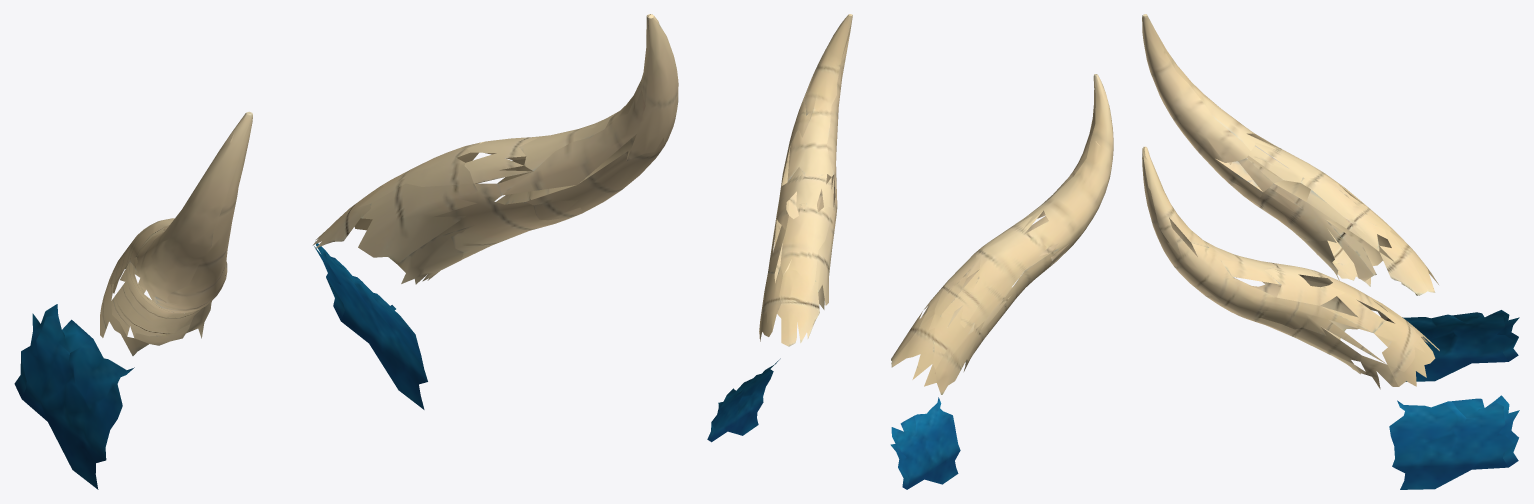
The model's file is dragon_hybrid_head.glb.
3 views of the same model, side by side, from view 1: azimuth 30°, elevation 25°; view 2: azimuth 150°, elevation 25°; view 3: azimuth 270°, elevation 25° (orthographic). The views are drawn at different scales.
Parts seen in each view (by area): view 1: dragon_hybrid_head; view 2: dragon_hybrid_head; view 3: dragon_hybrid_head.
Boxes of the visible parts, x1,y1,x2,y2 form: dragon_hybrid_head: (14,14,678,489); dragon_hybrid_head: (707,14,1113,489); dragon_hybrid_head: (1142,14,1519,489).
Bounding box in the file's own units: 2.25 × 2.25 × 2.17.
1 material, 1 textured.
